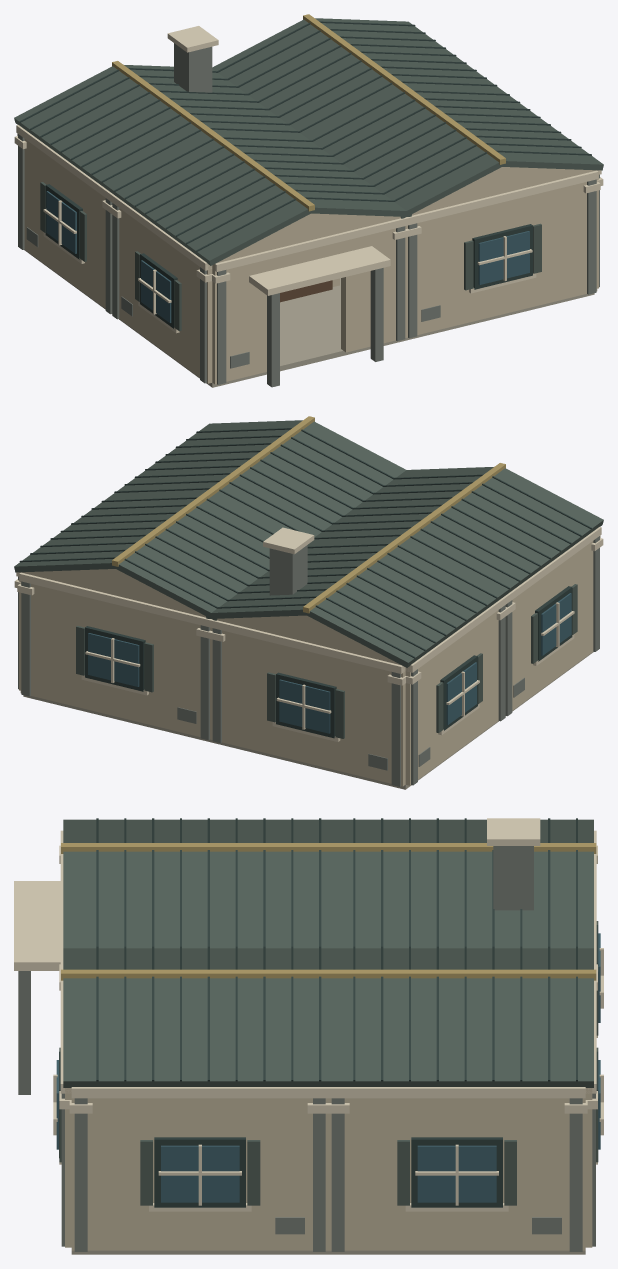
Rendered from FSA_ENV_Protected_01_CompactManor.glb.
The picture shows the model from 3 angles, top to bottom: view 1: azimuth 30°, elevation 25°; view 2: azimuth 150°, elevation 25°; view 3: azimuth 270°, elevation 25°; orthographic projection. The views are drawn at different scales.
Parts seen in each view (by area): view 1: PitchedRoof_220, PitchedRoof_41, PitchedRoof_310, PitchedRoof_136, PitchedRoof_320, Wall_277, Wall_276, PitchedRoof_230, PitchedRoof_146, Wall_191, Floor_190, PitchedRoof_51 (+41 smaller); view 2: PitchedRoof_41, PitchedRoof_220, PitchedRoof_136, PitchedRoof_310, PitchedRoof_146, Wall_7, Wall_120, Wall_8, Wall_119, PitchedRoof_320, PitchedRoof_230, PitchedRoof_51 (+40 smaller); view 3: PitchedRoof_146, PitchedRoof_320, PitchedRoof_230, PitchedRoof_51, Wall_294, Wall_103, Wall_102, Wall_293, PitchedRoof_220, PitchedRoof_136, PitchedRoof_310, PitchedRoof_41 (+32 smaller).
Part boxes in pixels (x1,y1,x2,y2): PitchedRoof_220: (108,135,311,265); PitchedRoof_41: (14,66,210,192); PitchedRoof_310: (306,94,502,218); PitchedRoof_136: (212,19,402,136); PitchedRoof_320: (410,87,603,170); Wall_277: (527,179,597,307); Wall_276: (406,209,475,337); PitchedRoof_230: (225,139,412,216); PitchedRoof_146: (315,18,506,93); Wall_191: (212,258,274,384); Floor_190: (119,286,403,387); PitchedRoof_51: (124,65,309,140); PitchedRoof_41: (306,537,509,667); PitchedRoof_220: (412,468,603,593); PitchedRoof_136: (115,494,292,620); PitchedRoof_310: (213,421,406,537); PitchedRoof_146: (14,489,207,572); Wall_7: (333,657,405,786); Wall_120: (20,581,90,709); Wall_8: (212,628,281,756); Wall_119: (142,611,211,739); PitchedRoof_320: (110,420,302,496); PitchedRoof_230: (309,467,493,543); PitchedRoof_51: (205,540,392,618); PitchedRoof_146: (320,978,593,1087); PitchedRoof_320: (63,978,337,1087); PitchedRoof_230: (63,851,337,948); PitchedRoof_51: (321,851,593,948); Wall_294: (71,1098,159,1250); Wall_103: (328,1098,416,1250); Wall_102: (497,1098,585,1250); Wall_293: (241,1098,328,1250); PitchedRoof_220: (63,819,337,842); PitchedRoof_136: (321,948,593,969); PitchedRoof_310: (63,948,337,969); PitchedRoof_41: (321,819,593,842).
Size of the model in its own units: 14.86 by 6.9 by 13.78.
